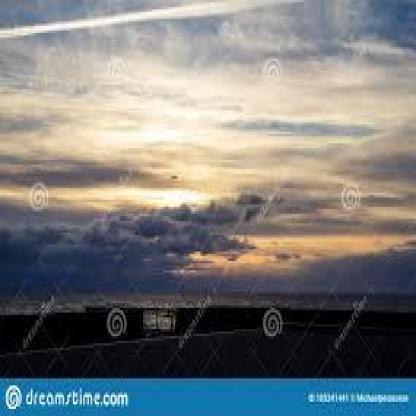bird: (168, 165, 193, 201)
